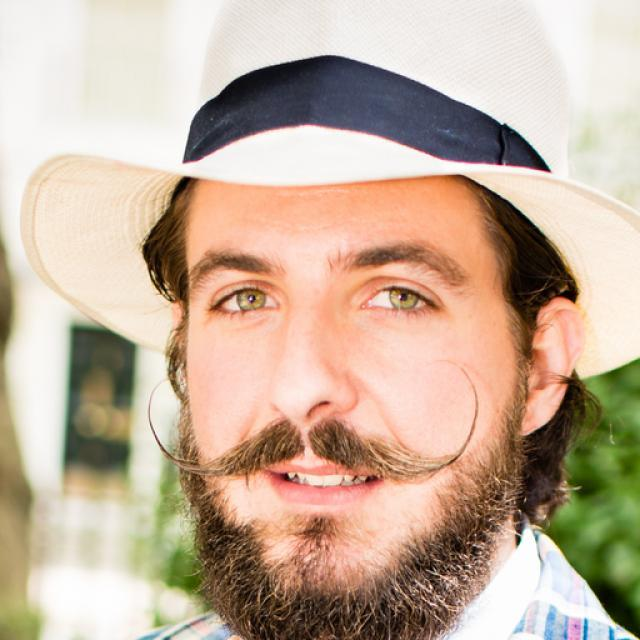content: (184, 182, 525, 640)
